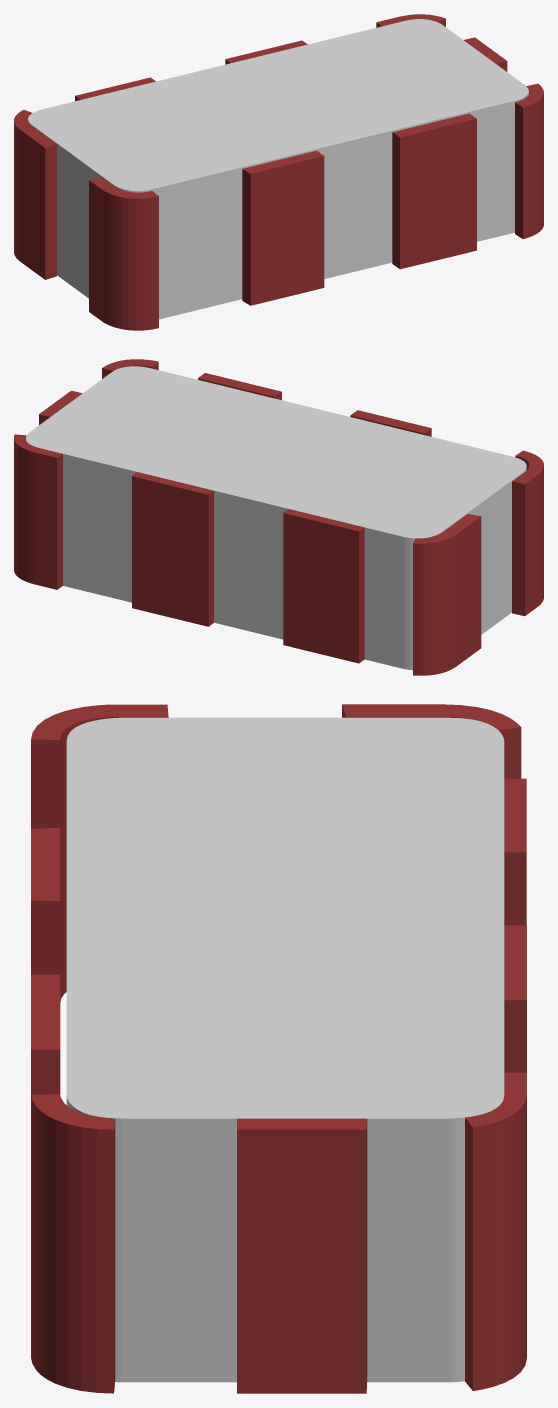
File: TSU.glb
The picture shows the model from 3 angles, top to bottom: view 1: azimuth 30°, elevation 25°; view 2: azimuth 150°, elevation 25°; view 3: azimuth 270°, elevation 25°; orthographic projection. The views are drawn at different scales.
Parts seen in each view (by area): view 1: TSU; view 2: TSU; view 3: TSU.
Boxes of the visible parts, box(x1,y1,x2,y2) form: TSU: box(14, 14, 543, 330); TSU: box(14, 359, 543, 675); TSU: box(31, 704, 526, 1393).
Bounding box in the file's own units: 0.0205 × 0.00594 × 0.0101.
